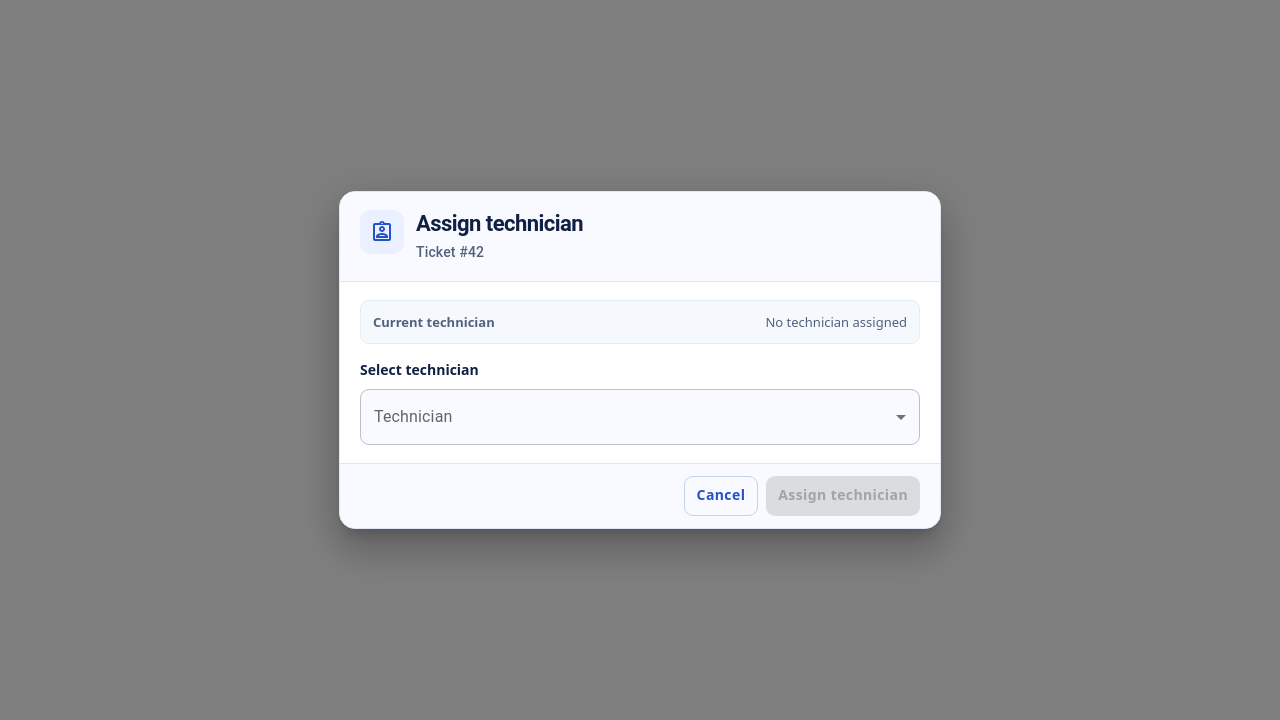
Test: AssignTicketTechnicianDialog › should show an error when assigning a technician fails
Click the dropdown: (640,416) [360,388,920,444]
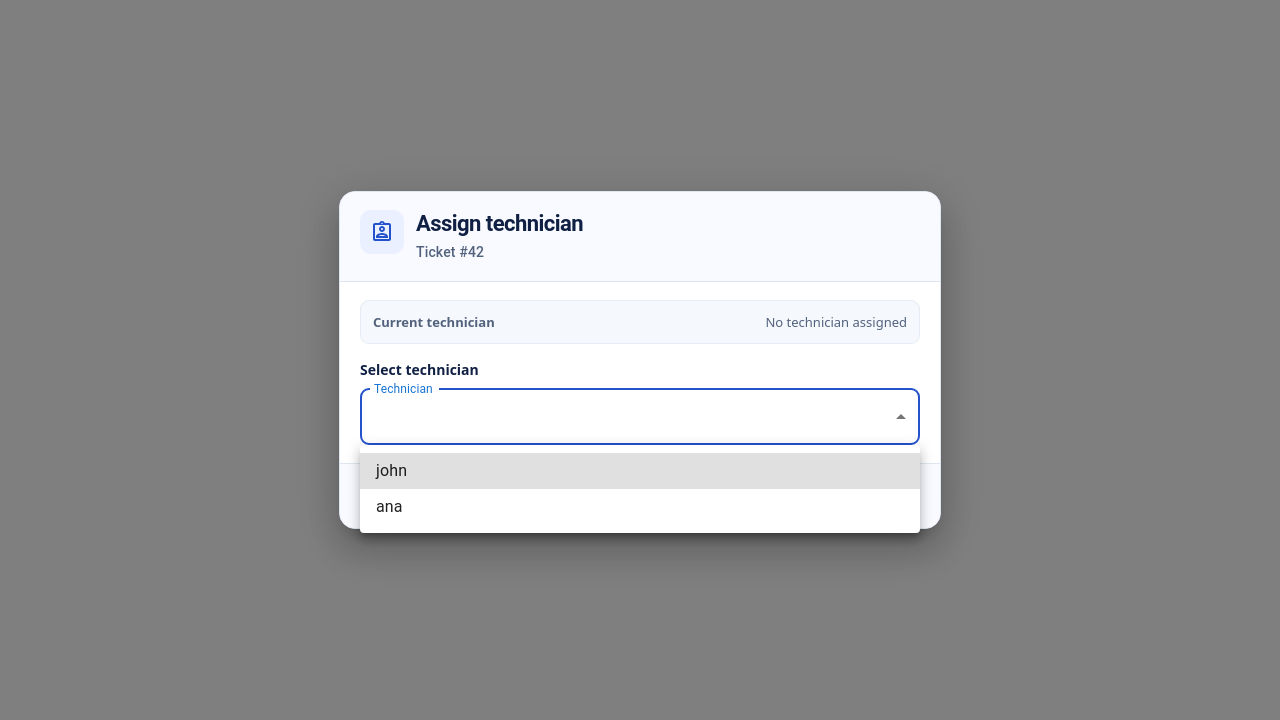
Click the option "ana": (389,506) [376,497,403,516]
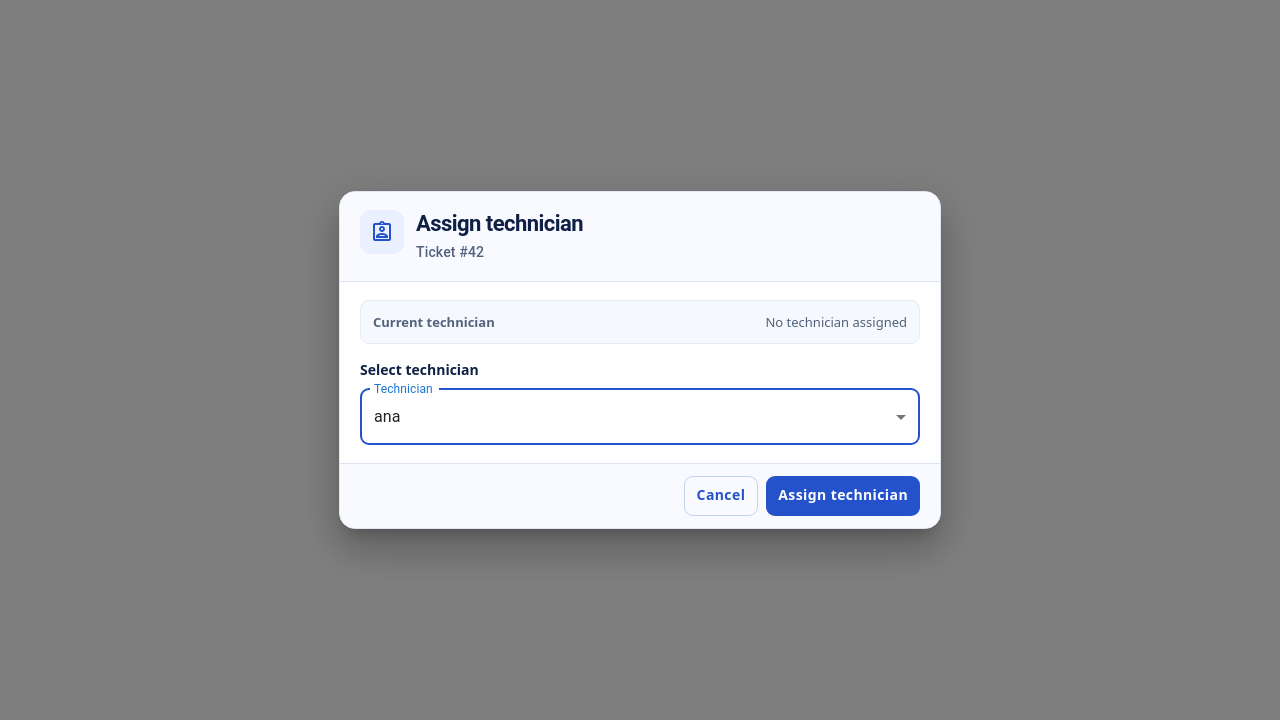
Click the button "Assign technician": (843,496) [766,476,920,516]
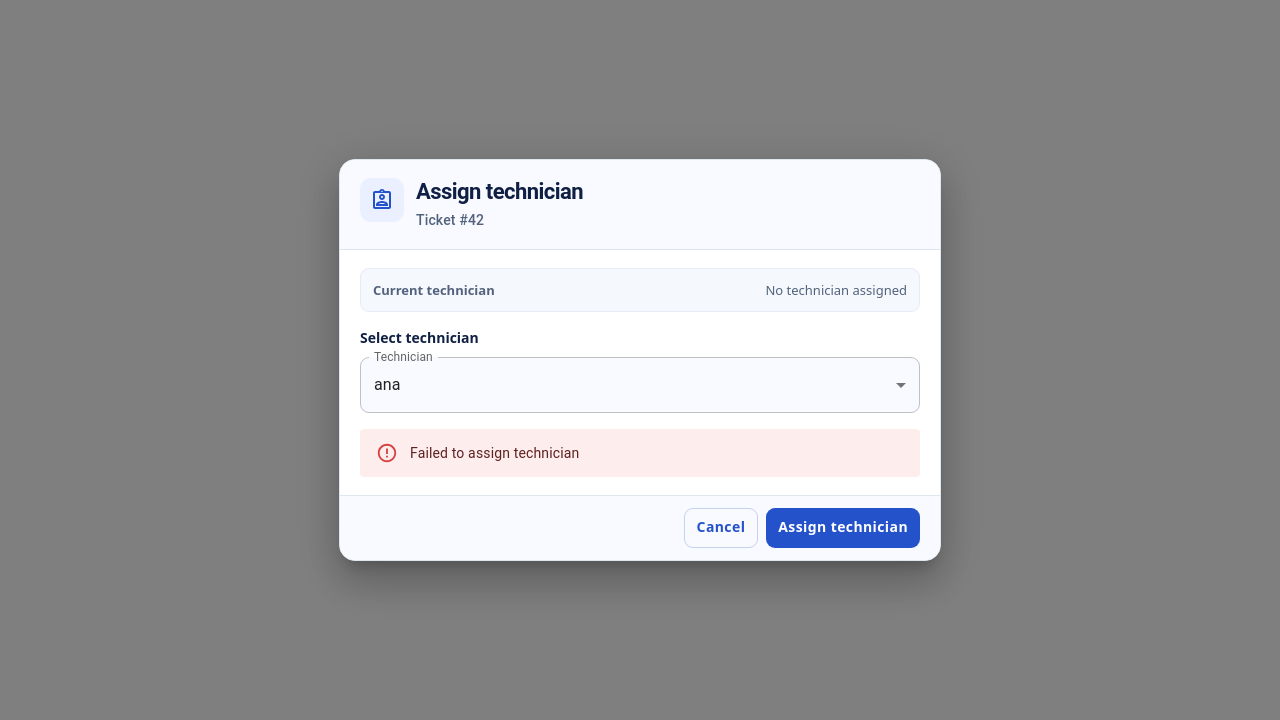
Now the message reads "Failed to assign technician", box [410,444,580,460]
